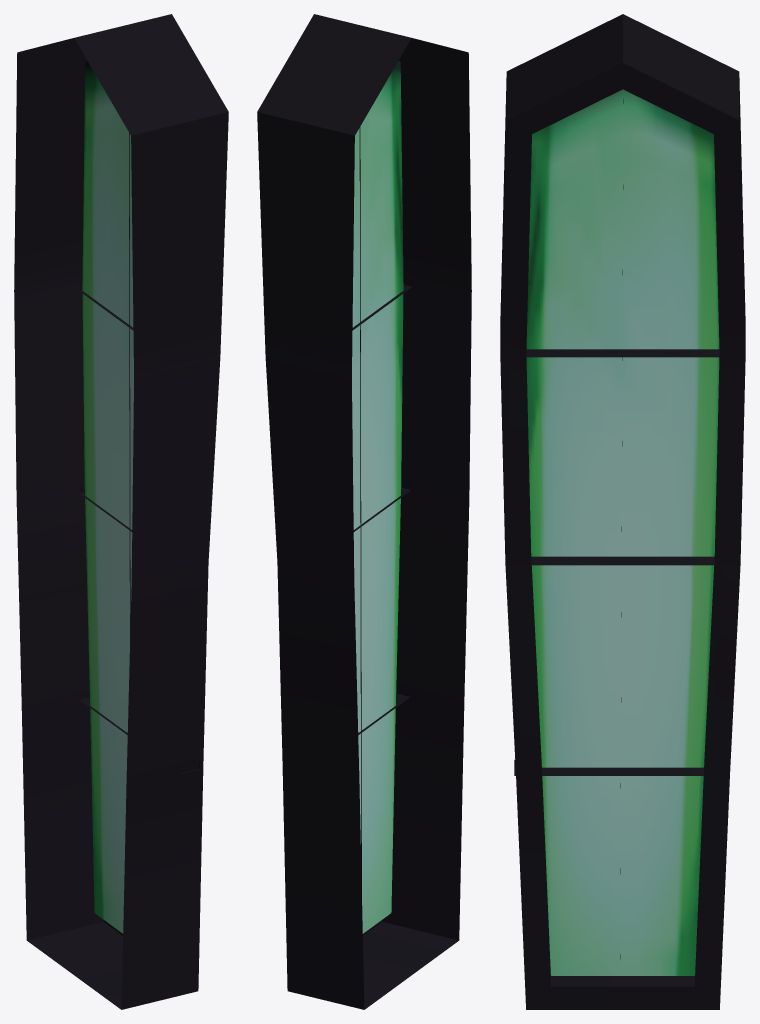
The model's file is Janela.fbx.
3 renders of one model, left to right at view 1: azimuth 30°, elevation 25°; view 2: azimuth 150°, elevation 25°; view 3: azimuth 270°, elevation 25°, orthographic. The views are drawn at different scales.
Visible parts, largest first — view 1: Janela; view 2: Janela; view 3: Janela.
Boxes of the visible parts, x1,y1,x2,y2 form: Janela: (14, 14, 228, 1009); Janela: (257, 14, 471, 1009); Janela: (500, 14, 745, 1009).
Bounding box in the file's own units: 62.7 × 133 × 575.
